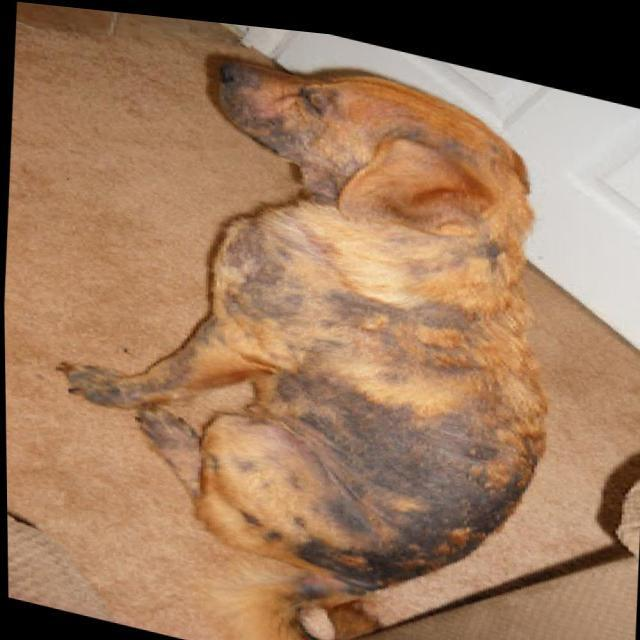allergic dermatitis: (284, 363, 508, 524), (334, 286, 493, 362), (300, 510, 436, 586), (224, 227, 304, 326)
